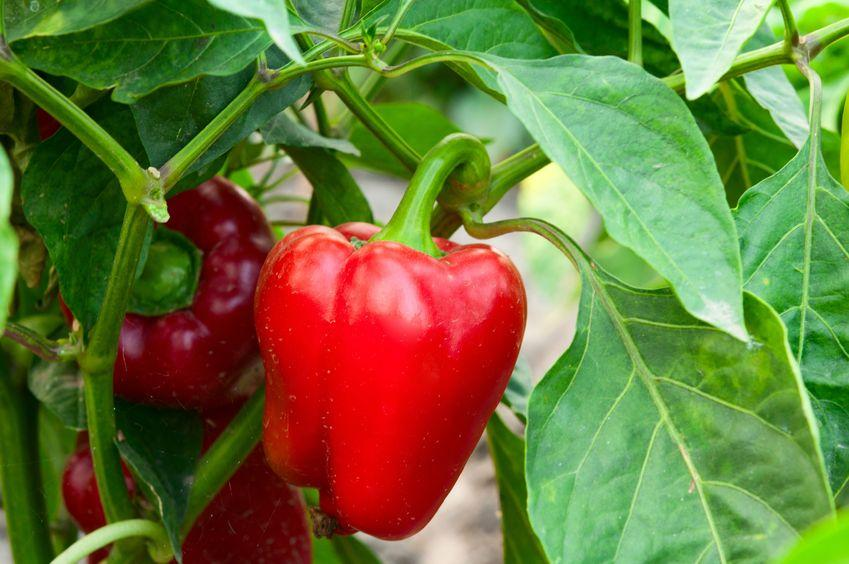paprika: (252, 131, 528, 541), (63, 173, 275, 411)
